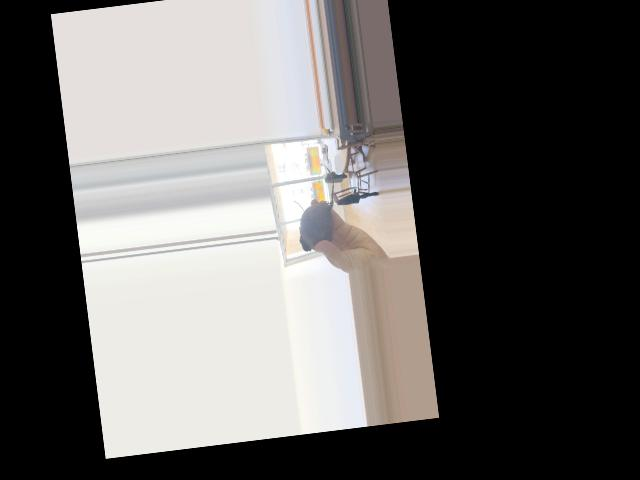beet: (290, 164, 341, 252)
